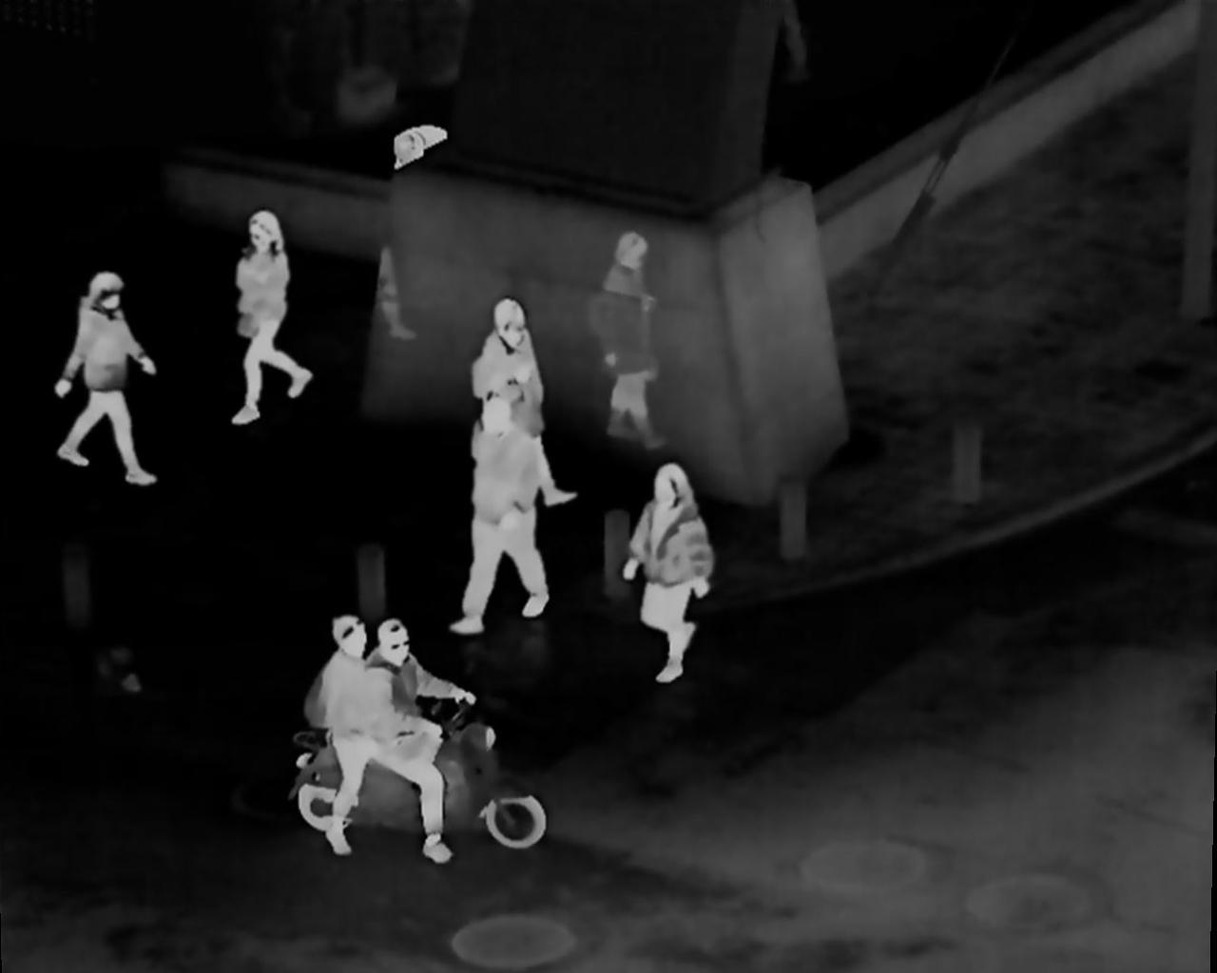person: (356, 614, 453, 865), (56, 269, 164, 482), (469, 298, 578, 506), (464, 393, 541, 622), (633, 463, 710, 677), (240, 208, 305, 425), (312, 612, 371, 842)
